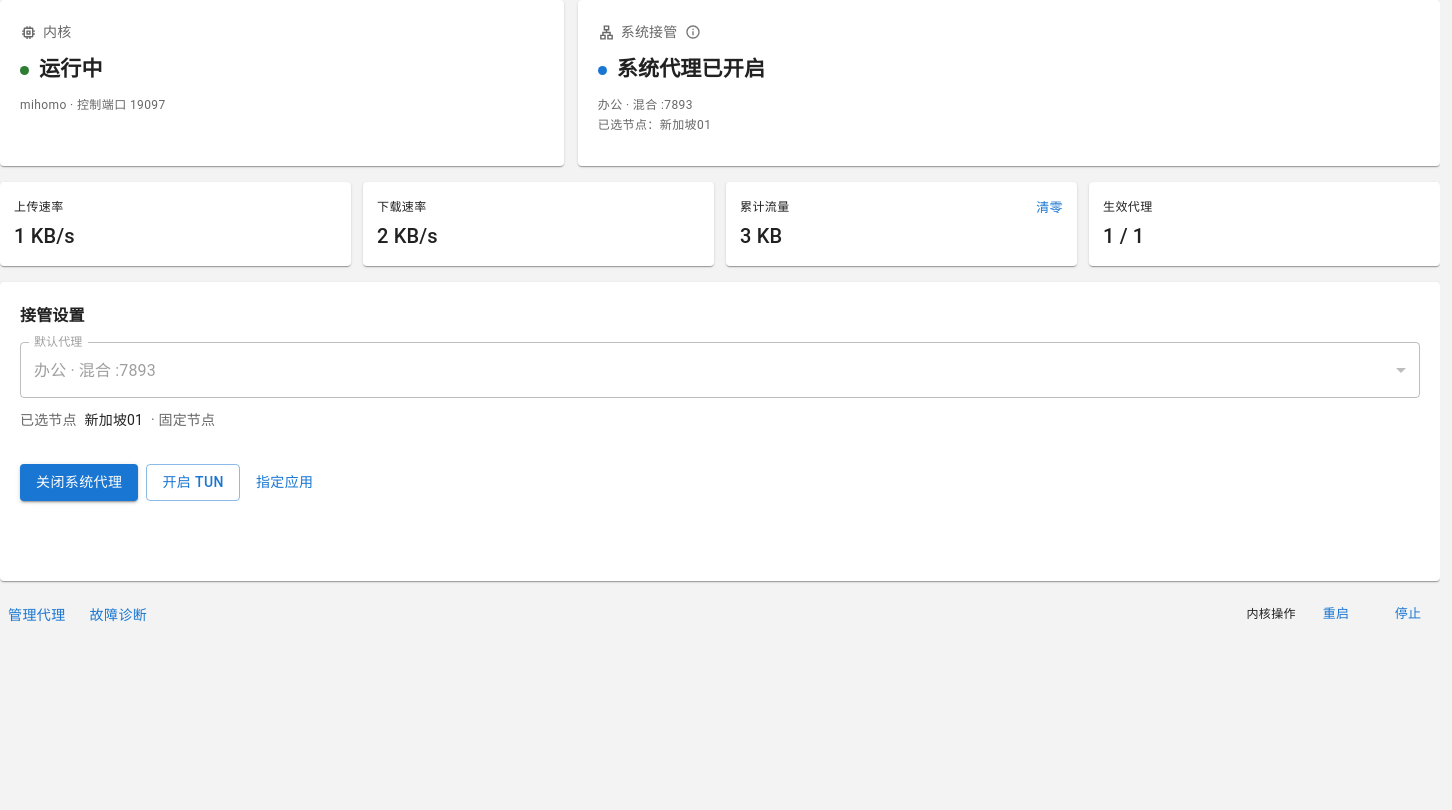
it: keeps the previous confirmed mode when switching fails and the backend restores it
Click the button "开启 TUN" at [193, 482], box [146, 464, 240, 500]
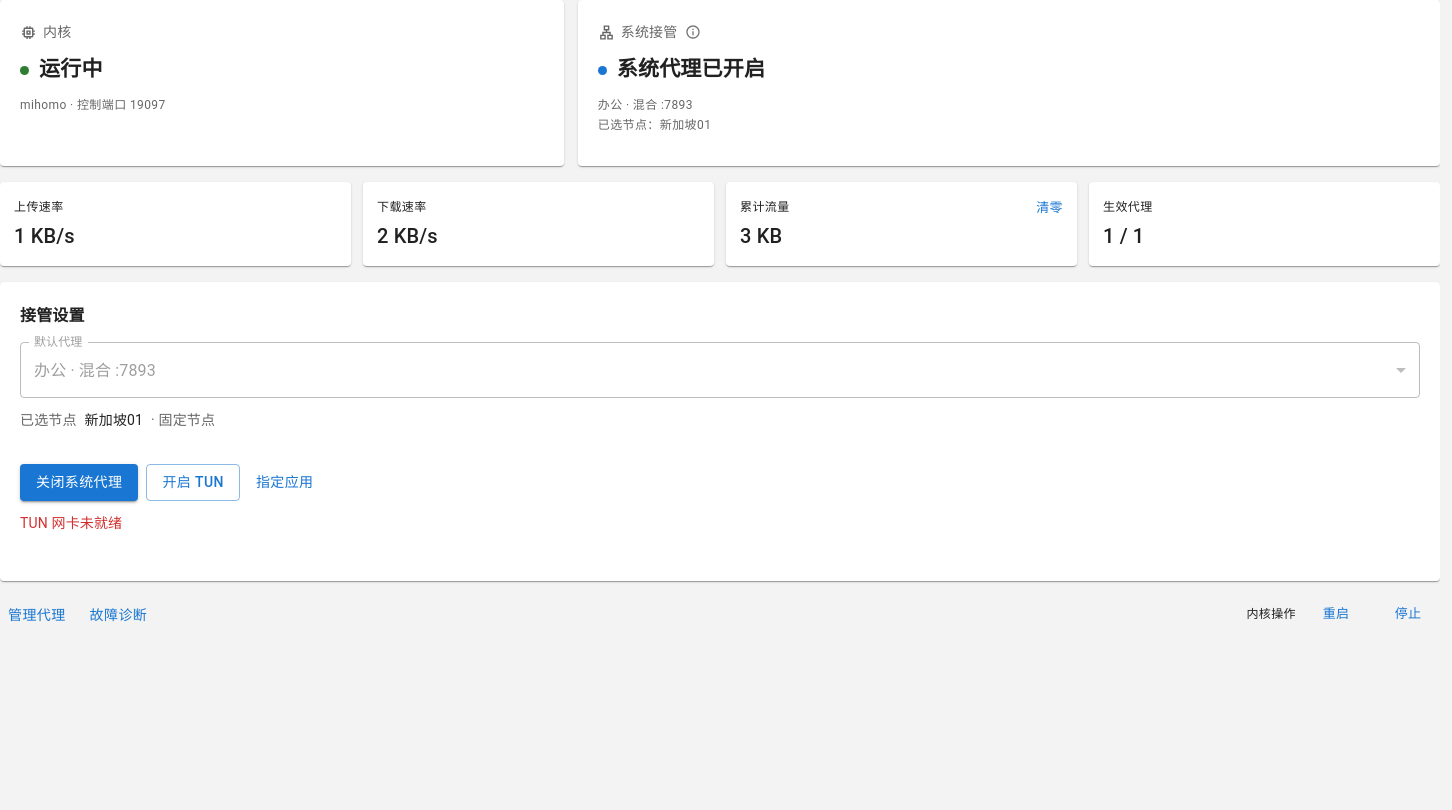
Expected: the text "系统代理已开启" is shown, [617, 54, 765, 86]
Now the message reads "TUN 网卡未就绪", box [20, 514, 122, 530]
